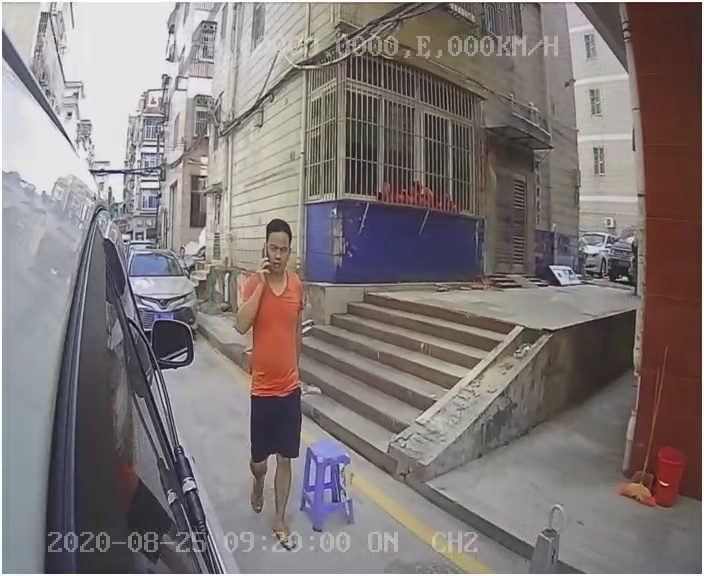person: (226, 221, 319, 532)
